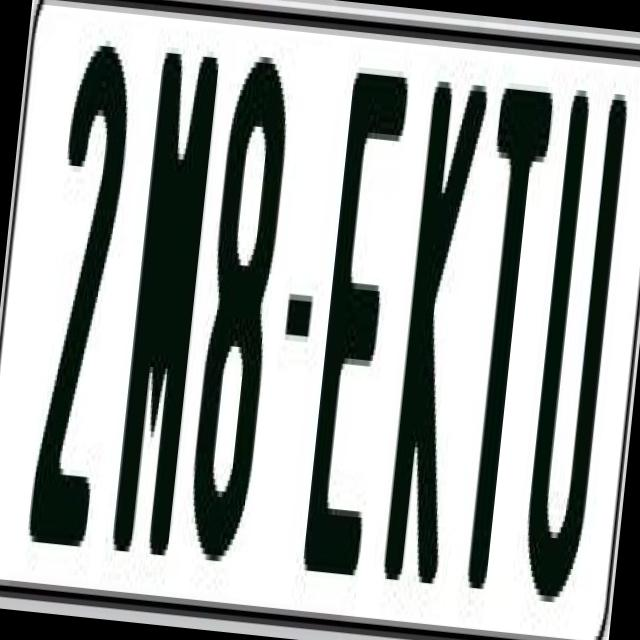2: (24, 31, 142, 559)
8: (184, 54, 295, 563)
E: (296, 59, 413, 582)
K: (378, 74, 488, 607)
M: (110, 47, 222, 556)
T: (448, 70, 556, 574)
U: (519, 83, 629, 604)
